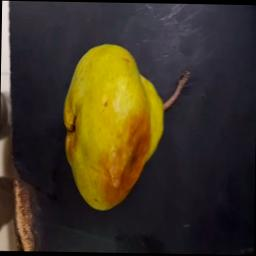Pear Rotten: (51, 30, 196, 223)
